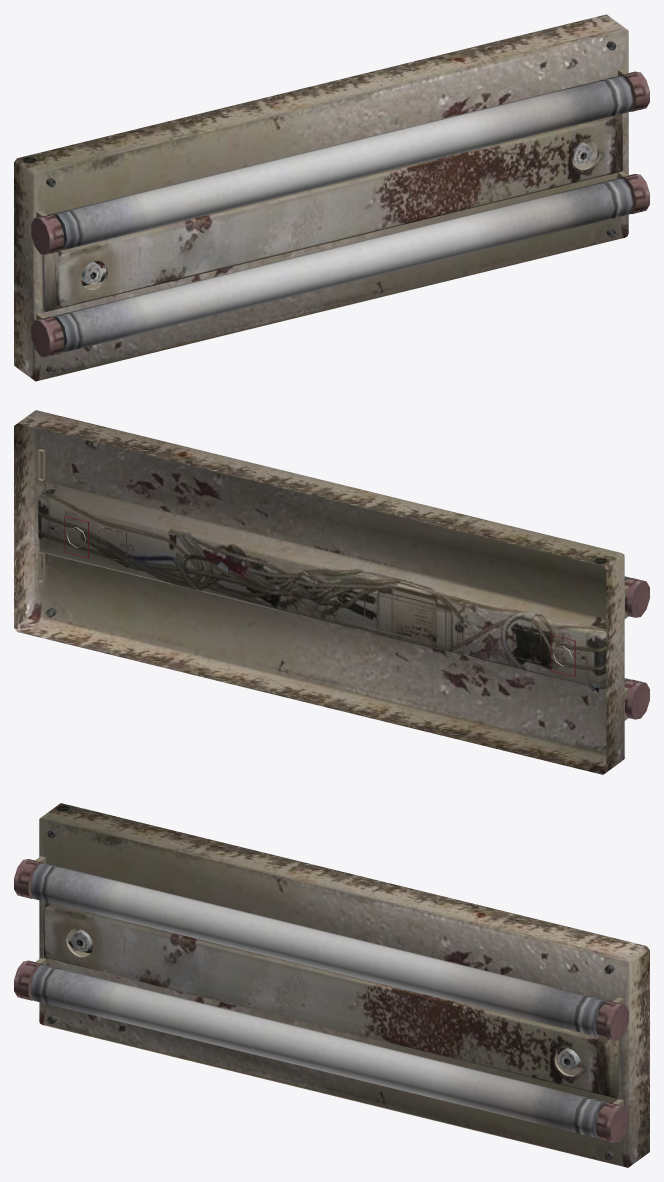
The model's file is props_lamp_arc_discharge.fbx.
The picture shows the model from 3 angles, top to bottom: view 1: azimuth 30°, elevation 25°; view 2: azimuth 150°, elevation 25°; view 3: azimuth 330°, elevation 25°; orthographic projection.
Parts seen in each view (by area): view 1: props_lamp_arc_discharge; view 2: props_lamp_arc_discharge; view 3: props_lamp_arc_discharge.
Boxes of the visible parts, x1,y1,x2,y2 form: props_lamp_arc_discharge: [14, 14, 649, 381]; props_lamp_arc_discharge: [14, 410, 649, 774]; props_lamp_arc_discharge: [14, 803, 649, 1167].
Size of the model in its own units: 113 by 37.57 by 13.16.
1 material, 1 textured.
